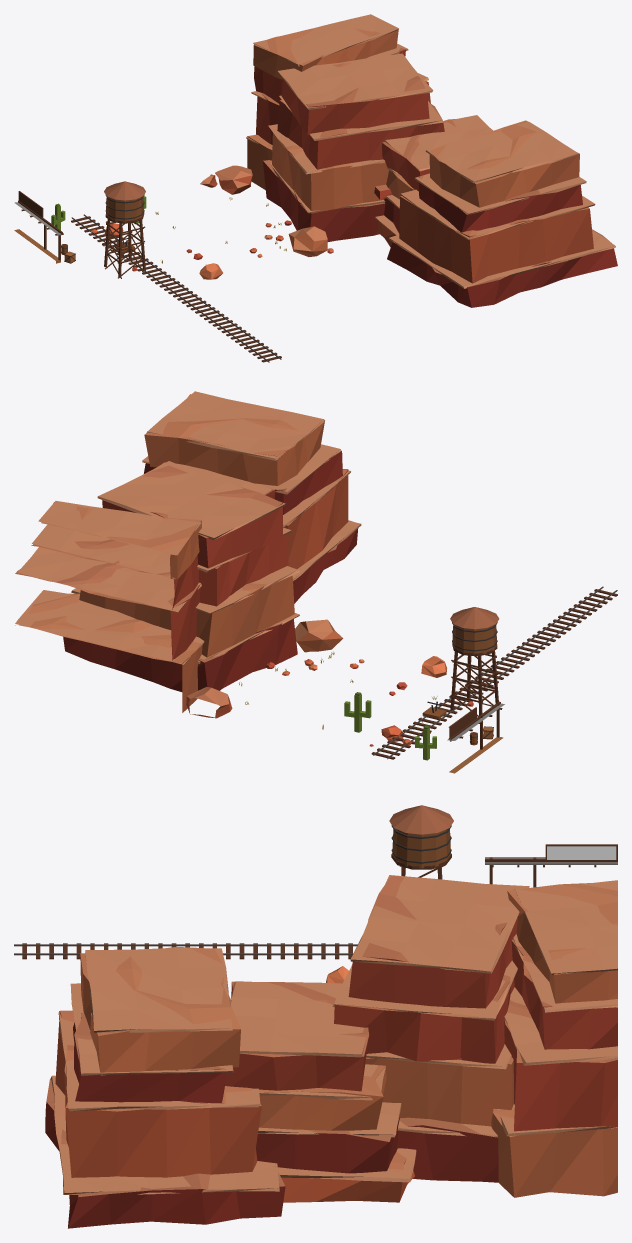
The picture shows the model from 3 angles, top to bottom: view 1: azimuth 30°, elevation 25°; view 2: azimuth 150°, elevation 25°; view 3: azimuth 270°, elevation 25°; orthographic projection. The views are drawn at different scales.
Parts seen in each view (by area): view 1: scene.4.4 (×2); view 2: scene.4.4 (×2); view 3: scene.4.4 (×3).
Boxes of the visible parts, x1,y1,x2,y2 form: scene.4.4 (×2): (14, 14, 617, 362); scene.4.4 (×2): (15, 391, 617, 773); scene.4.4 (×3): (14, 805, 617, 1228).
Size of the model in its own units: 49.71 by 15.65 by 40.
